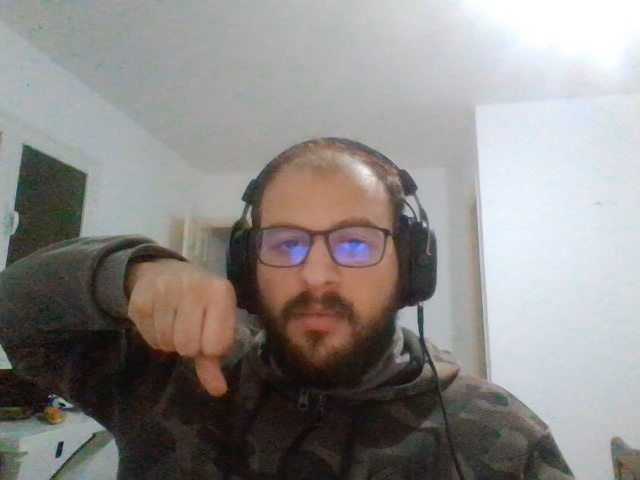Yes: (126, 274, 233, 396)
